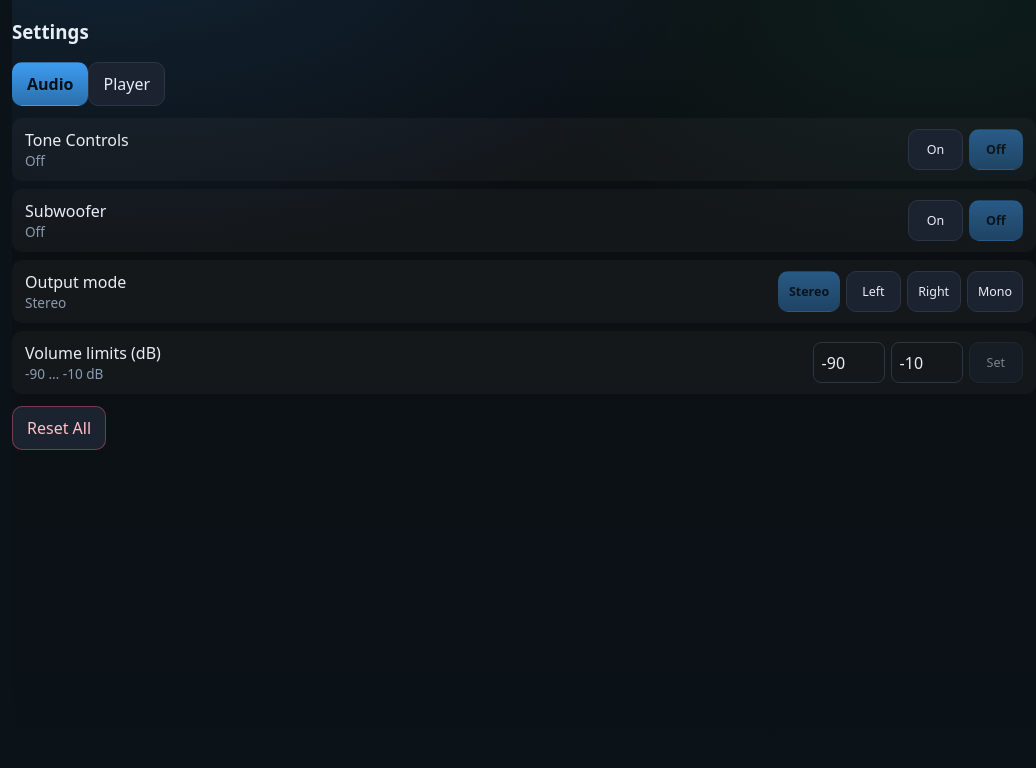
DeviceSettingsPanel › surfaces ApiError from failed writes
Expected: the text "Output mode" is shown, x1=25 y1=271 x2=126 y2=293
Click the button "Left" at (873, 292), box x1=846 y1=271 x2=900 y2=312
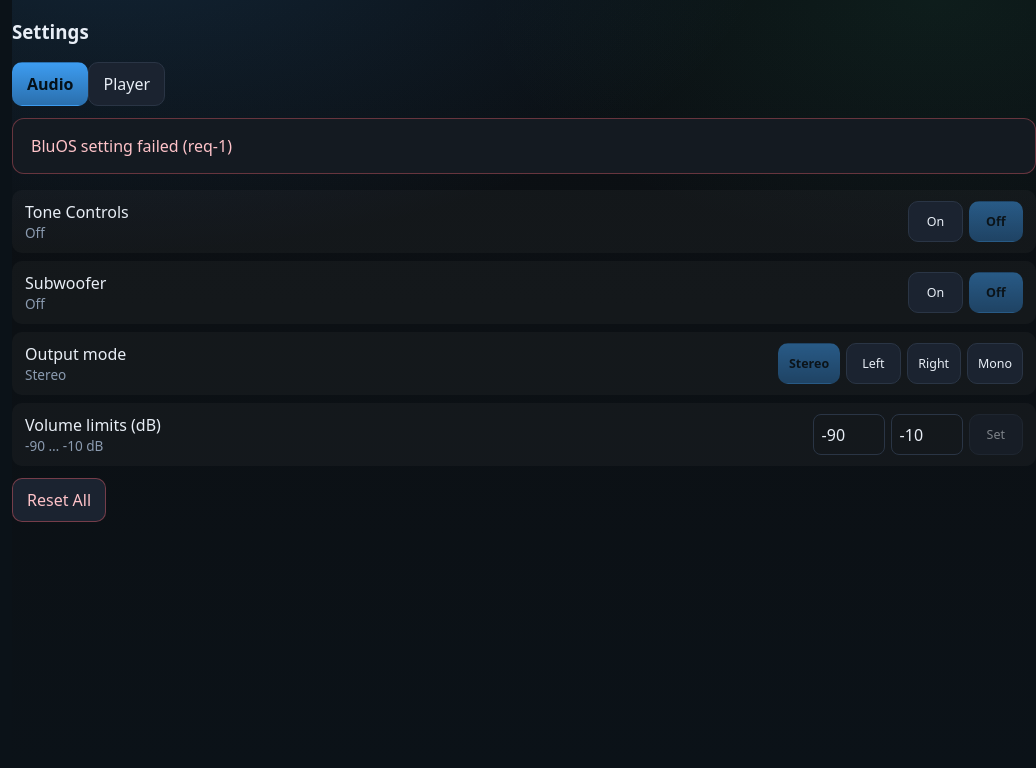
Result: the text "BluOS setting failed (req-1)" is shown at x1=12 y1=118 x2=1035 y2=174
